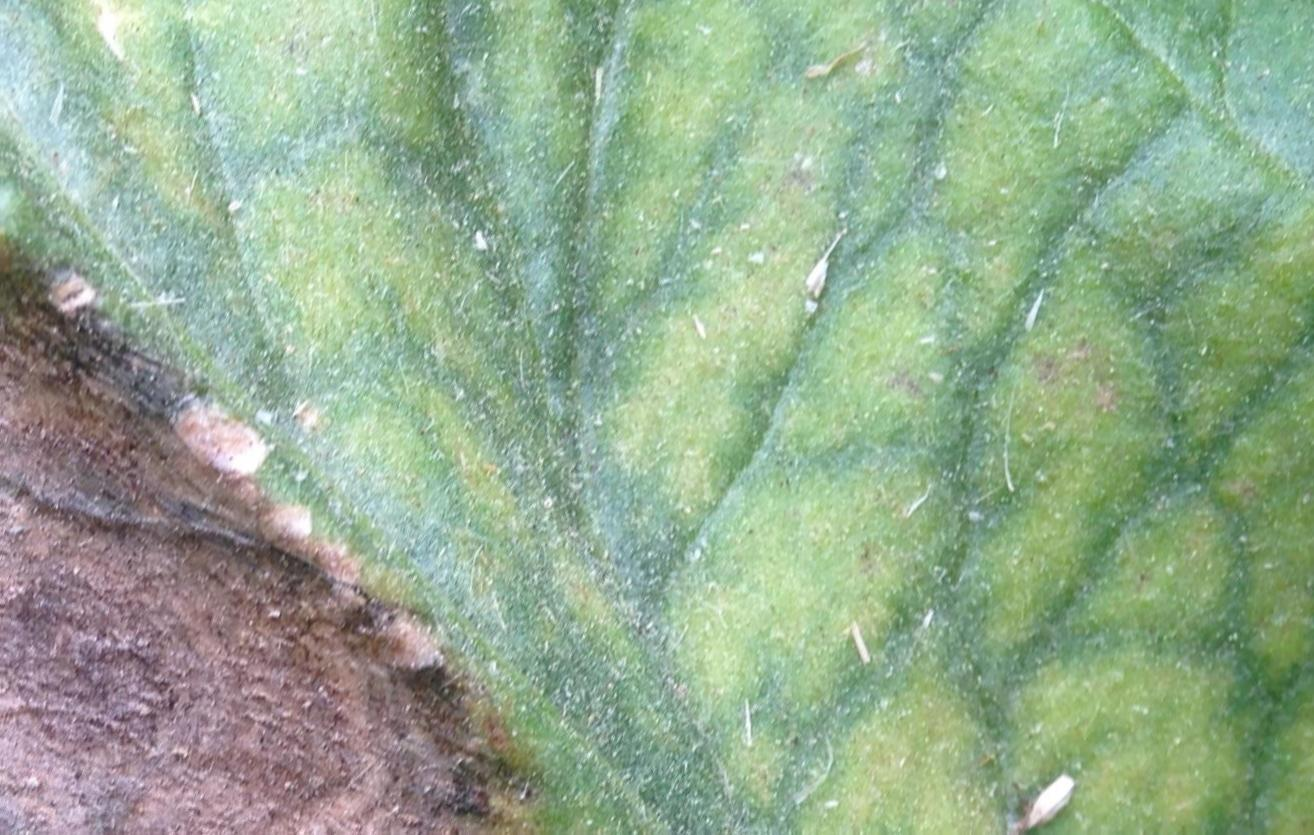Tomato Early blight leaf: (0, 17, 812, 835)
